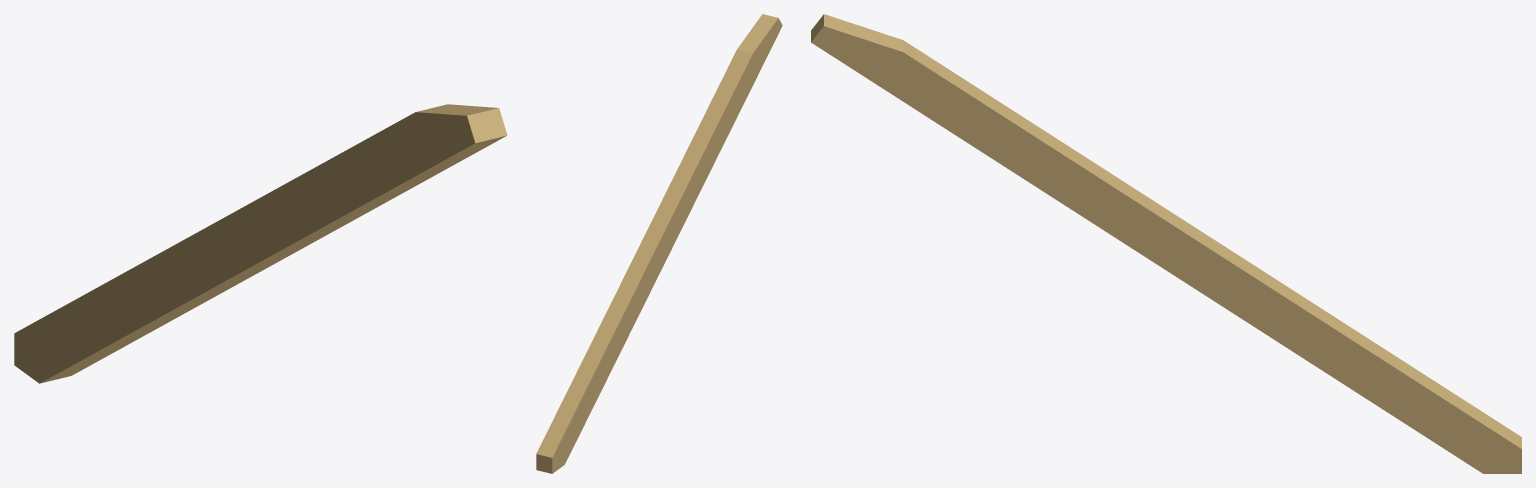
3 views of the same model, side by side, from view 1: azimuth 30°, elevation 25°; view 2: azimuth 150°, elevation 25°; view 3: azimuth 270°, elevation 25° (orthographic). The views are drawn at different scales.
Parts seen in each view (by area): view 1: L1-3-S12-328-WEB04; view 2: L1-3-S12-328-WEB04; view 3: L1-3-S12-328-WEB04.
Boxes of the visible parts, left/top/right/bottom form: L1-3-S12-328-WEB04: left=14, top=104, right=507, bottom=383; L1-3-S12-328-WEB04: left=536, top=14, right=782, bottom=473; L1-3-S12-328-WEB04: left=811, top=14, right=1521, bottom=473.
Size of the model in its own units: 0.045 by 0.7758 by 1.12.
